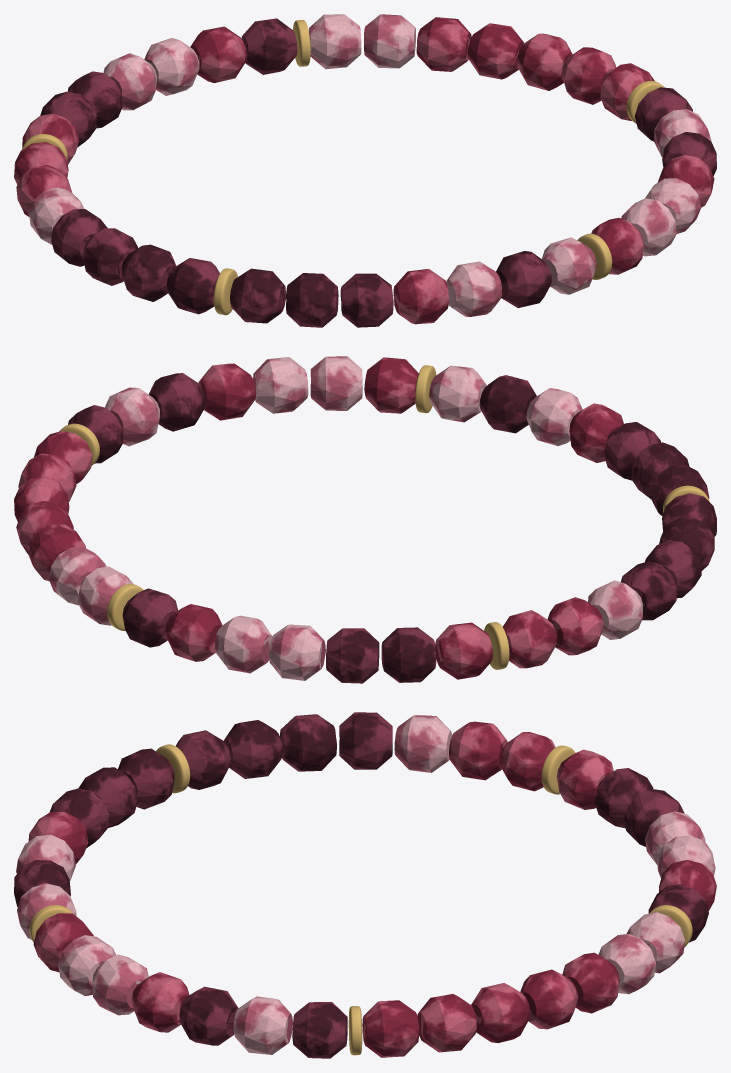
Rendered from standard.glb.
3 views of the same model, one above another, from view 1: azimuth 30°, elevation 25°; view 2: azimuth 150°, elevation 25°; view 3: azimuth 270°, elevation 25° (orthographic). The views are drawn at different scales.
Parts seen in each view (by area): view 1: facet_kulka_4.004, facet_kulka_1.004, facet_kulka_0.005, facet_kulka_2.004, facet_kulka_3.004, facet_kulka_1.001, facet_kulka_2.001, facet_kulka_4, facet_kulka_0.001, facet_kulka_1.005, facet_kulka_3, facet_kulka_3.001 (+27 smaller); view 2: facet_kulka_3.002, facet_kulka_0.002, facet_kulka_4.001, facet_kulka_2.002, facet_kulka_1.002, facet_kulka_0.006, facet_kulka_1.006, facet_kulka_2.005, facet_kulka_4.005, facet_kulka_3.005, facet_kulka_3.001, facet_kulka_1.005 (+27 smaller); view 3: facet_kulka_3.006, facet_kulka_1, facet_kulka_0, facet_kulka_3.003, facet_kulka_2.006, facet_kulka_2, facet_kulka_1.003, facet_kulka_2.003, facet_kulka_4.006, facet_kulka_4.003, facet_kulka_0.003, facet_kulka_1.006 (+27 smaller).
Boxes of the visible parts, x1,y1,x2,y2 form: facet_kulka_4.004: [393, 268, 449, 324]; facet_kulka_1.004: [230, 268, 285, 323]; facet_kulka_0.005: [446, 261, 502, 316]; facet_kulka_2.004: [286, 273, 338, 327]; facet_kulka_3.004: [340, 273, 393, 327]; facet_kulka_1.001: [309, 14, 361, 69]; facet_kulka_2.001: [241, 18, 297, 74]; facet_kulka_4: [416, 17, 471, 71]; facet_kulka_0.001: [364, 14, 415, 68]; facet_kulka_1.005: [496, 251, 551, 308]; facet_kulka_3: [467, 23, 523, 79]; facet_kulka_3.001: [190, 26, 246, 82]; facet_kulka_3.002: [435, 622, 493, 679]; facet_kulka_0.002: [269, 624, 325, 680]; facet_kulka_4.001: [214, 615, 272, 673]; facet_kulka_2.002: [381, 627, 436, 682]; facet_kulka_1.002: [326, 628, 379, 683]; facet_kulka_0.006: [253, 357, 308, 413]; facet_kulka_1.006: [198, 363, 255, 420]; facet_kulka_2.005: [429, 365, 486, 422]; facet_kulka_4.005: [310, 356, 362, 410]; facet_kulka_3.005: [364, 357, 418, 413]; facet_kulka_3.001: [165, 604, 222, 661]; facet_kulka_1.005: [479, 375, 536, 433]; facet_kulka_3.006: [233, 996, 292, 1054]; facet_kulka_1: [417, 994, 476, 1052]; facet_kulka_0: [362, 1000, 419, 1057]; facet_kulka_3.003: [280, 714, 336, 771]; facet_kulka_2.006: [179, 986, 238, 1045]; facet_kulka_2: [471, 983, 529, 1042]; facet_kulka_1.003: [394, 715, 452, 772]; facet_kulka_2.003: [339, 712, 392, 769]; facet_kulka_4.006: [292, 1002, 347, 1058]; facet_kulka_4.003: [223, 720, 282, 778]; facet_kulka_0.003: [449, 721, 507, 780]; facet_kulka_1.006: [131, 972, 189, 1032].
Size of the model in its own units: 6.03 by 0.4721 by 5.71.
Materials: 4 (3 with a texture image).
